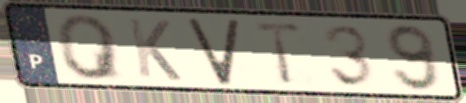3: (320, 24, 377, 88)
9: (384, 22, 442, 94)
K: (124, 15, 184, 84)
Q: (52, 13, 128, 83)
T: (251, 20, 306, 87)
V: (184, 17, 242, 87)
